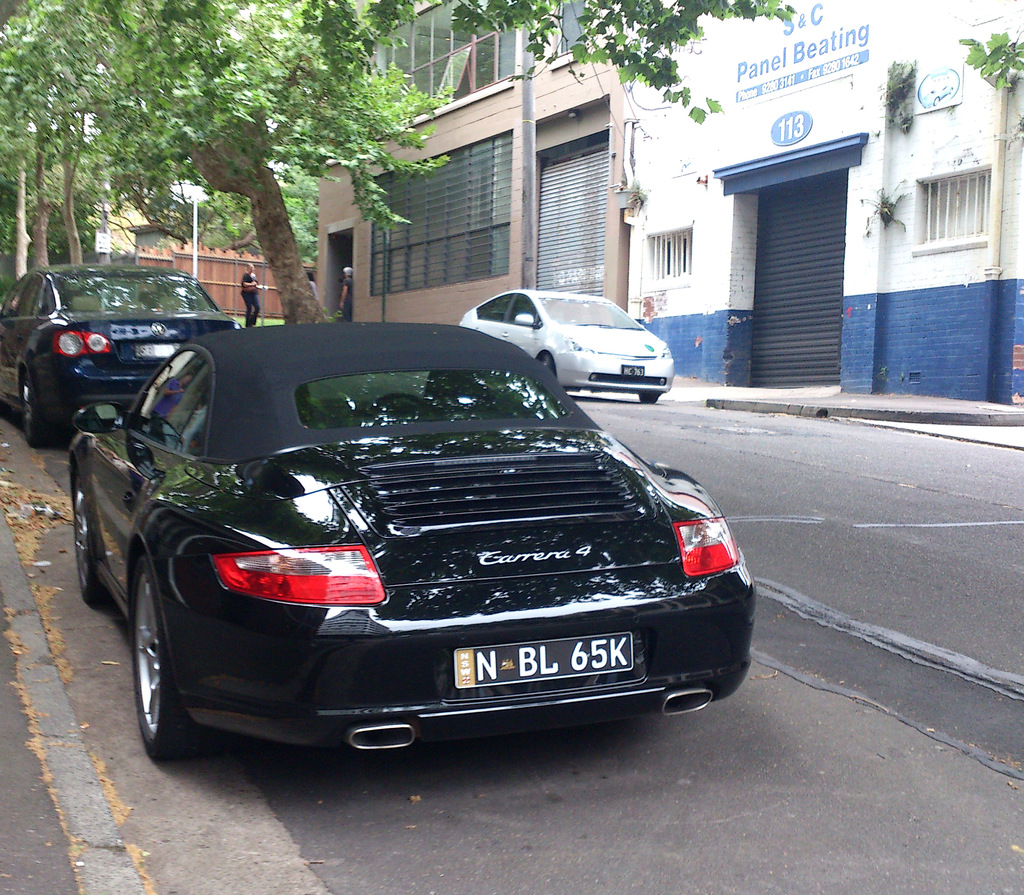Car: (65, 315, 759, 766), (0, 254, 238, 446), (454, 286, 676, 411)
